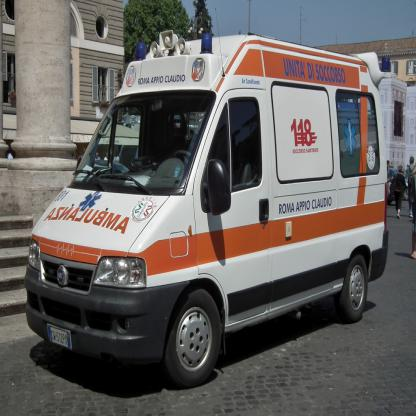Ambulance: (23, 5, 389, 381)
